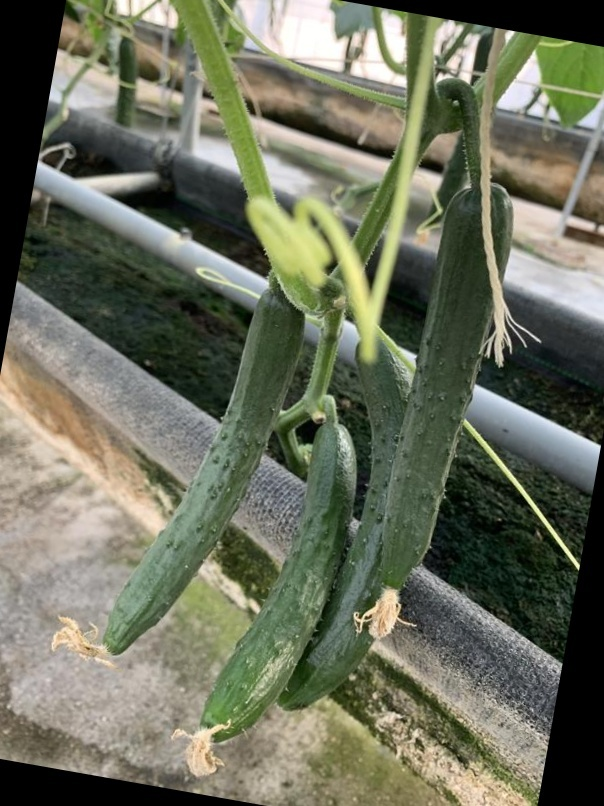mature: (84, 294, 302, 657), (374, 178, 500, 599), (205, 416, 357, 737), (285, 335, 412, 707)
